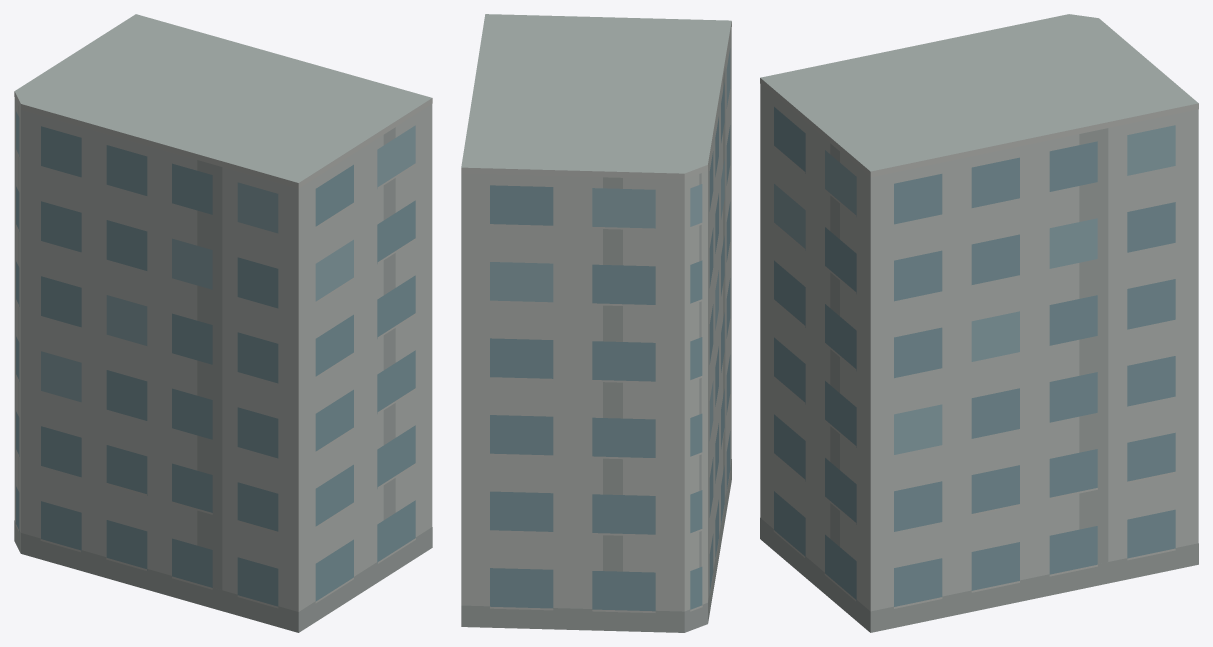
Rendered from survey-upis-32641458.glb.
3 views of the same model, side by side, from view 1: azimuth 30°, elevation 25°; view 2: azimuth 150°, elevation 25°; view 3: azimuth 270°, elevation 25° (orthographic). The views are drawn at different scales.
Visible parts, largest first — view 1: survey-upis-32641458.tmp; view 2: survey-upis-32641458.tmp; view 3: survey-upis-32641458.tmp.
Part boxes in pixels (x1,y1,x2,y2): survey-upis-32641458.tmp: (14,14,432,632); survey-upis-32641458.tmp: (461,14,731,632); survey-upis-32641458.tmp: (760,14,1198,632).
Size of the model in its own units: 13.85 by 18.9 by 16.29.
